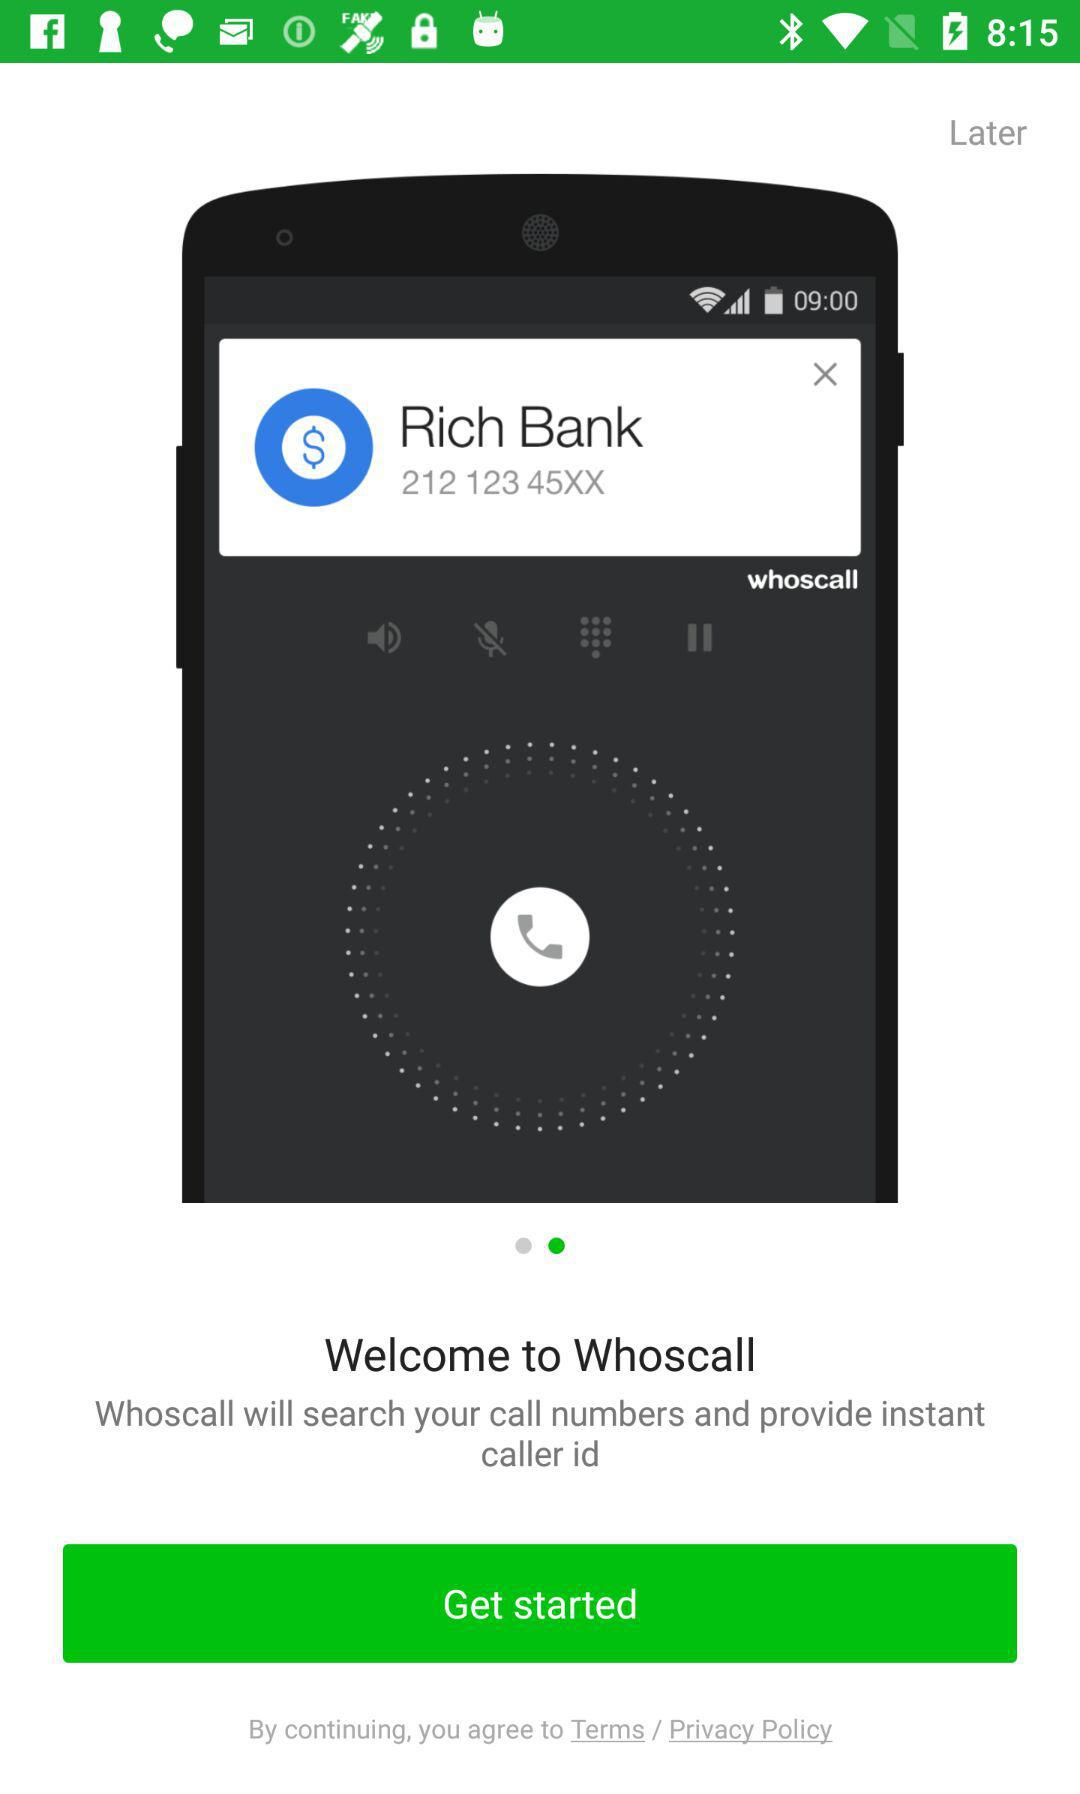Image: (176, 174, 904, 1203)
PageIndicator: (515, 1237, 568, 1255)
Text: (95, 1399, 986, 1469), (249, 1716, 835, 1747), (325, 1337, 755, 1372), (949, 117, 1029, 147)
TextButton: (63, 1544, 1019, 1665)
UpperTaskBar: (1, 1, 1080, 64)
